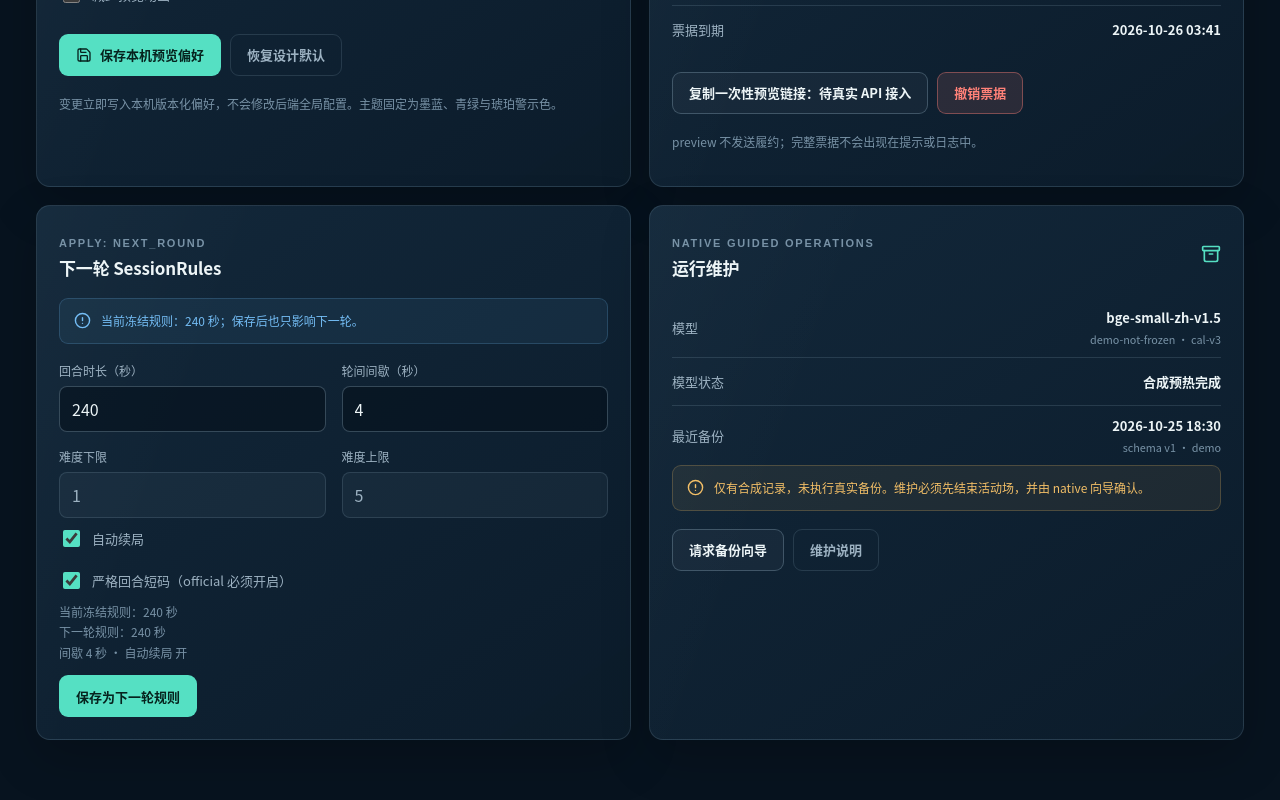
Test: 设置与展示预览 › 预览偏好只保存本机，维护能力不伪造成功
The image size is (1280, 800).
(page scrolled)
What coordinates should you click on to do the following:
click the button "保存本机预览偏好"
I would click on:
 (140, 55)
Its box is [59,34,221,76].
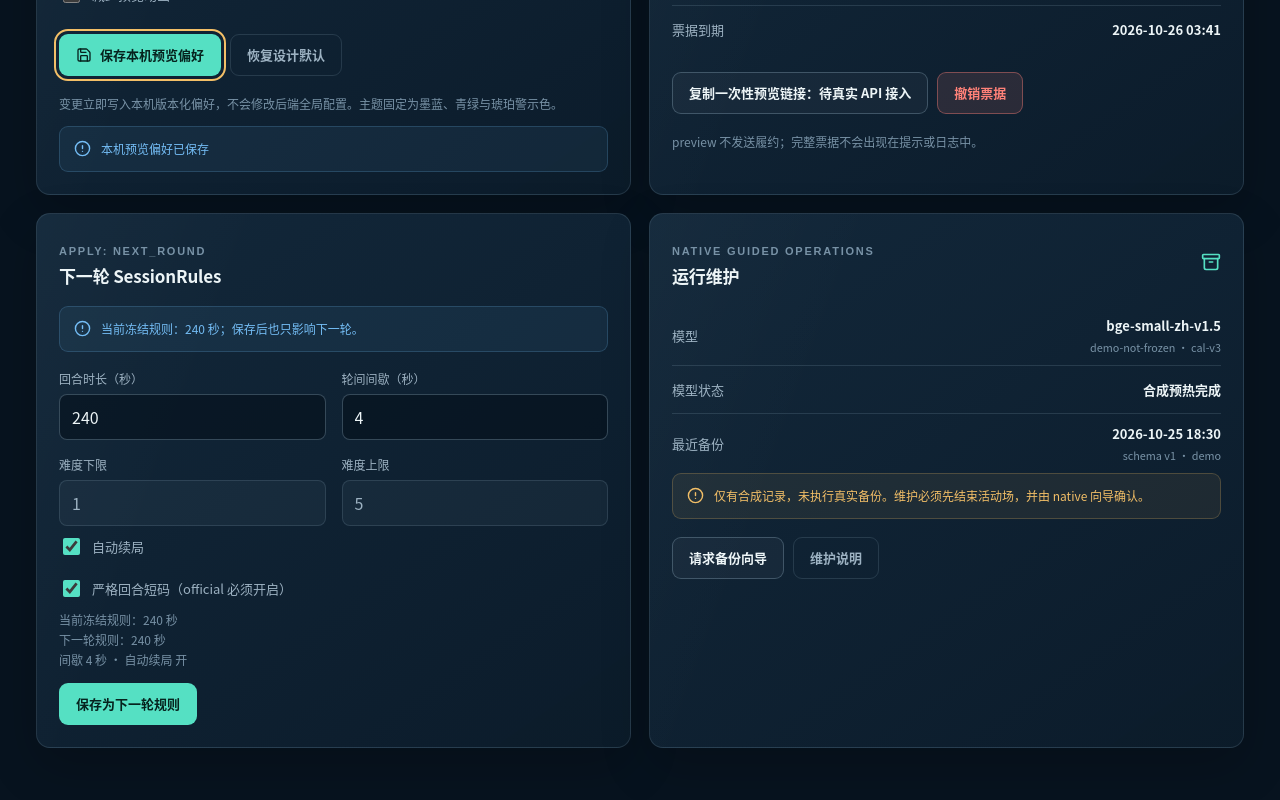
Expected: the text "变更立即写入本机版本化偏好，不会修改后端全局配置。主题固定为墨蓝、青绿与琥珀警示色。" is shown, [59,94,608,114]
Expected: the text "本机预览偏好已保存" is shown, [101,139,209,159]
What coordinates should you click on to do the following:
click the button "请求备份向导"
I would click on:
 (728, 558)
Its box is [672,537,784,579].
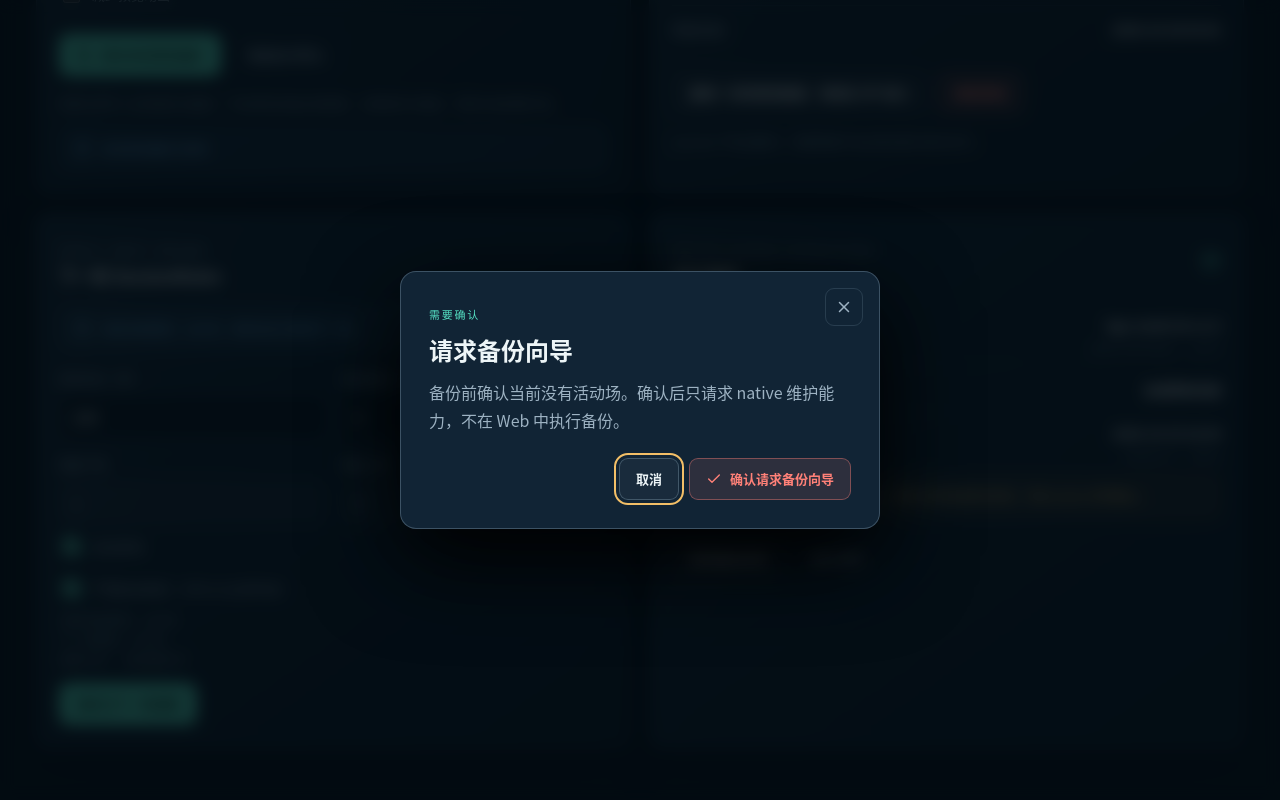
What coordinates should you click on to do the following:
click the button "确认请求备份向导"
I would click on:
 (770, 479)
Its box is [689,458,851,500].
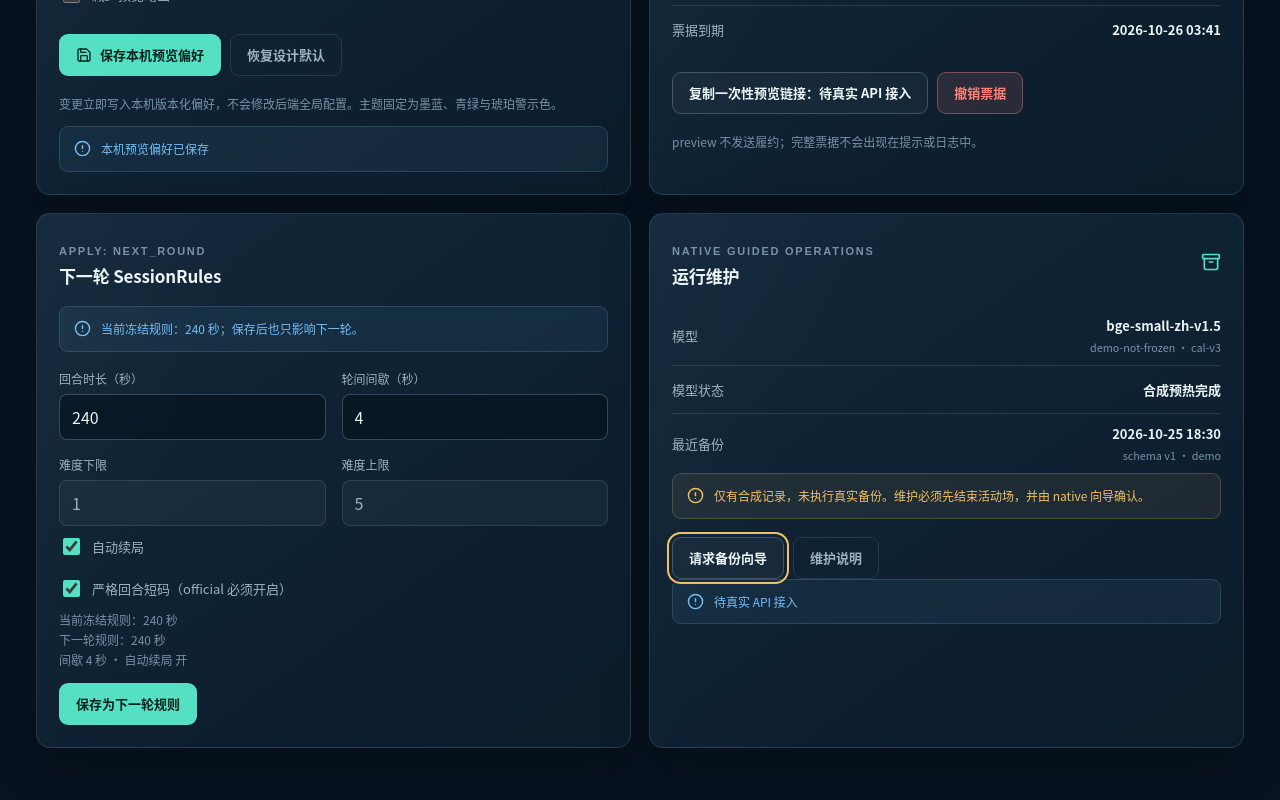
Expected: the text "待真实 API 接入" is shown, [714,592,798,611]
